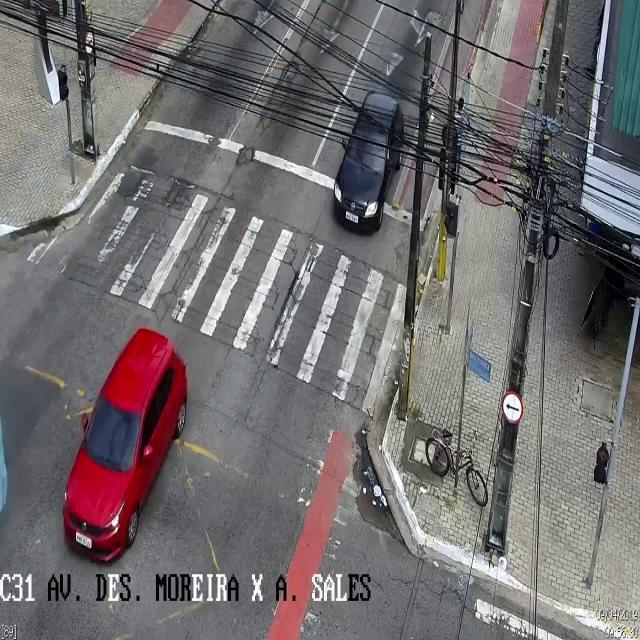Car: (64, 331, 185, 561), (332, 90, 402, 241)
